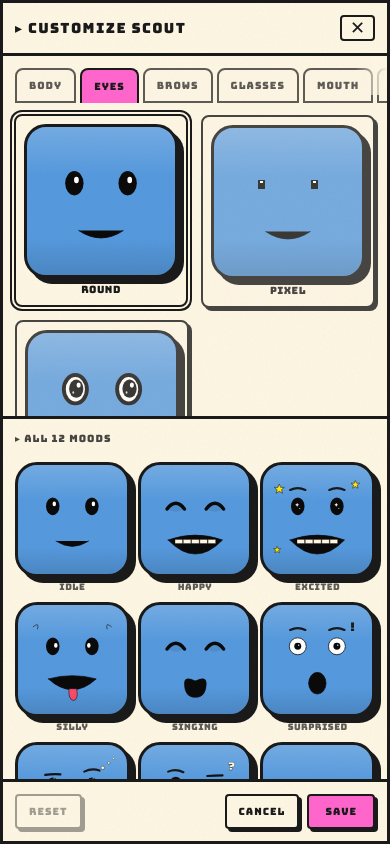
it: MugBuilder › renders the eye-family tiles by default and the mouth tab swaps to mouth families
This screenshot has width=390, height=844.
Expected: the text "ROUND" is shown, [81,283,121,296]
Expected: the text "PIXEL" is shown, [270,284,306,297]
# Switch to the Mouth tab — now the mouth families render.
Click the tab "MOUTH". click: x=338, y=86
box: [303,68,373,103]
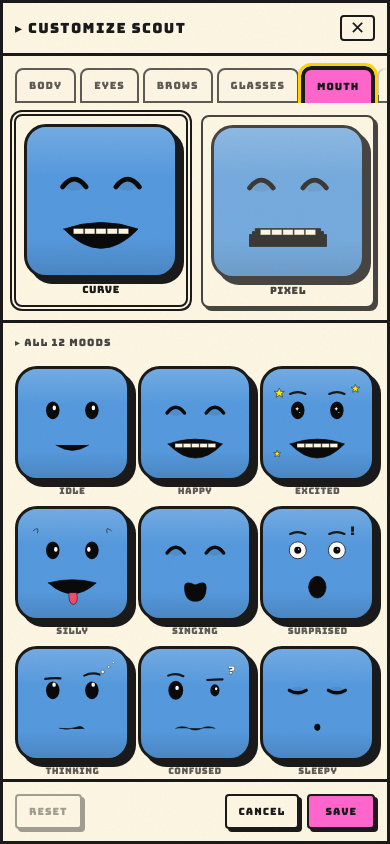
Expected: the text "PIXEL" is shown, [270,284,306,297]
Expected: the text "CURVE" is shown, [82,283,120,296]
